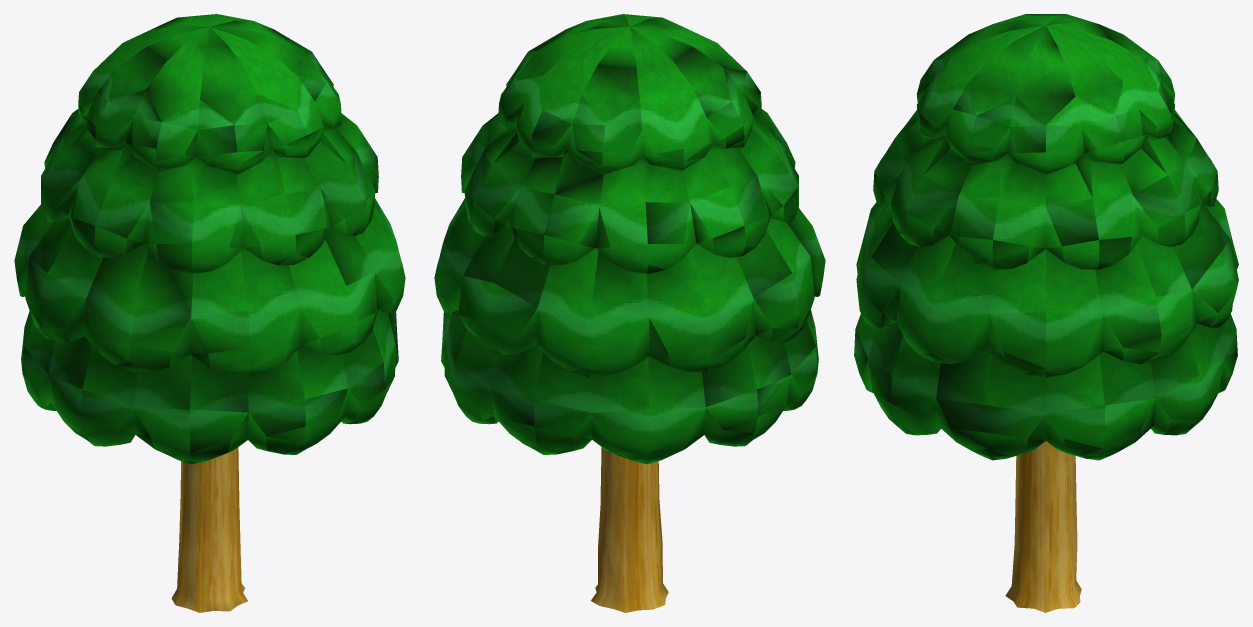
File: tree4.glb
The picture shows the model from 3 angles, left to right: view 1: azimuth 30°, elevation 25°; view 2: azimuth 150°, elevation 25°; view 3: azimuth 270°, elevation 25°; orthographic projection.
Parts seen in each view (by area): view 1: _1_0_node, _0_0_node; view 2: _1_0_node, _0_0_node; view 3: _1_0_node, _0_0_node.
Boxes of the visible parts, left/top/right/bottom form: _1_0_node: left=14, top=14, right=405, bottom=464; _0_0_node: left=171, top=447, right=247, bottom=612; _1_0_node: left=434, top=14, right=825, bottom=464; _0_0_node: left=591, top=447, right=668, bottom=612; _1_0_node: left=854, top=14, right=1238, bottom=460; _0_0_node: left=1005, top=441, right=1081, bottom=612.
Bounding box in the file's own units: 32.61 × 52.13 × 31.88.
2 materials, 2 textured.
